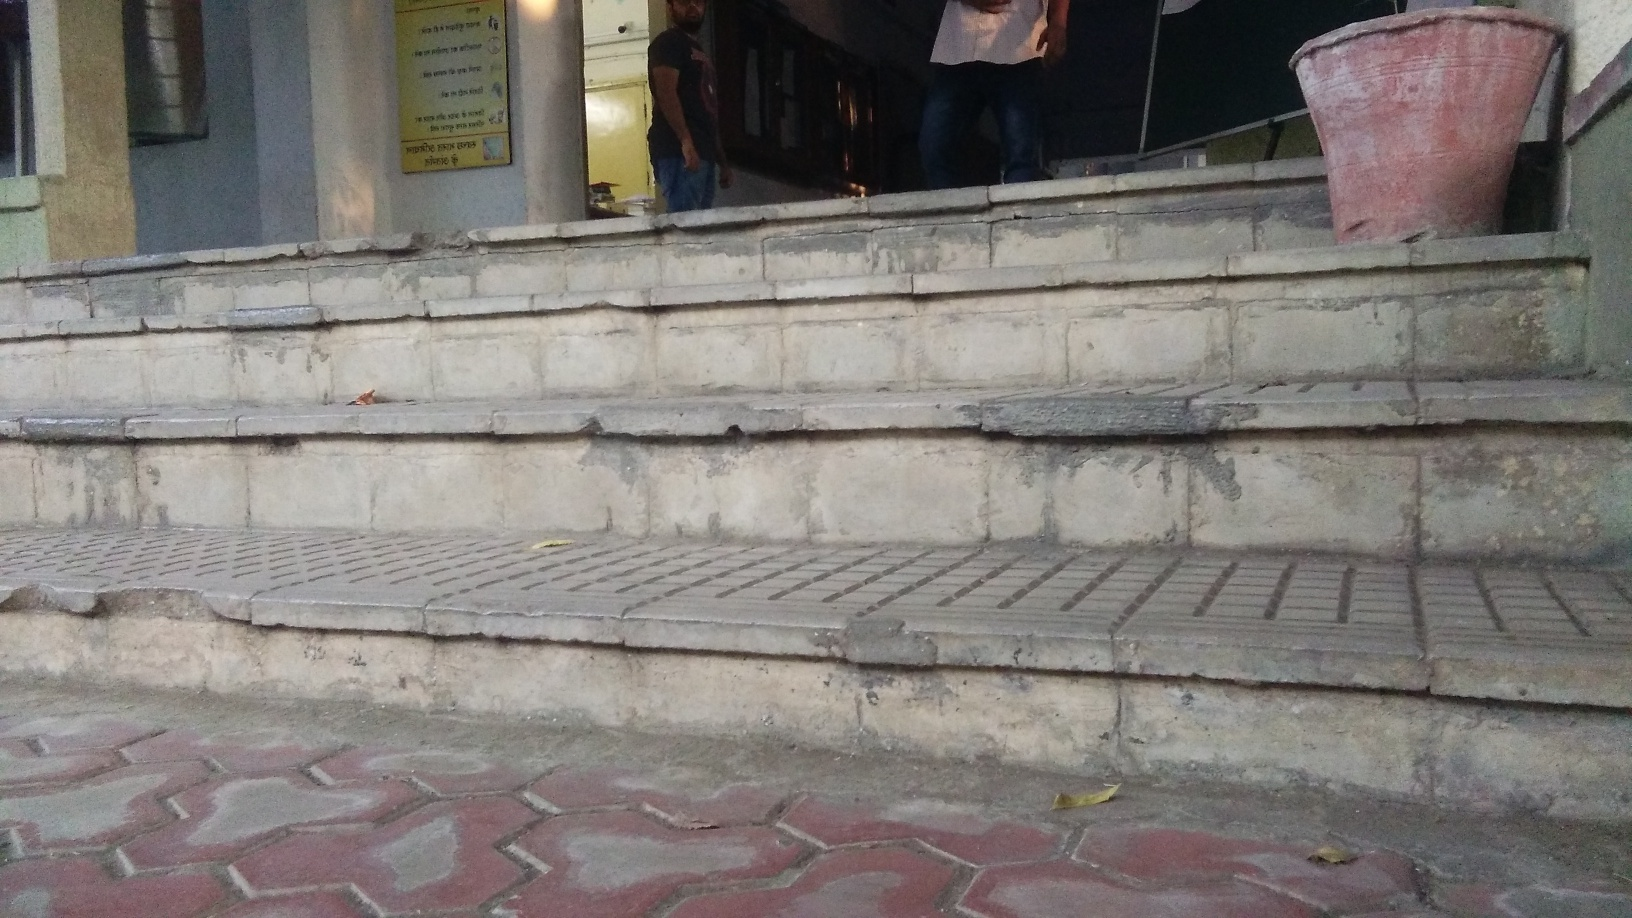stairs_up: (28, 152, 1534, 658)
